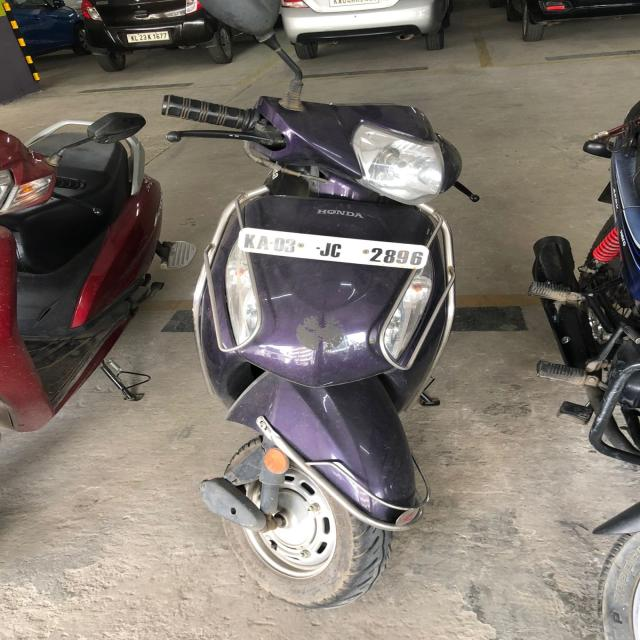license_plate: (241, 226, 427, 271), (121, 29, 172, 45)
